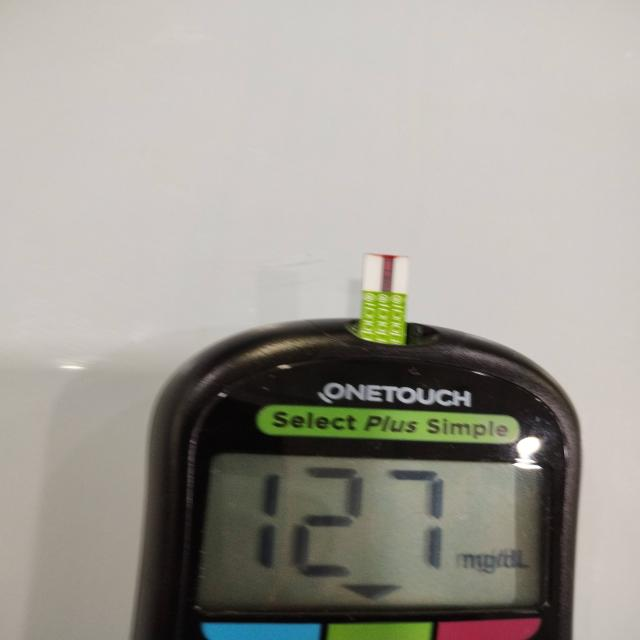gluco: (130, 256, 582, 640)
